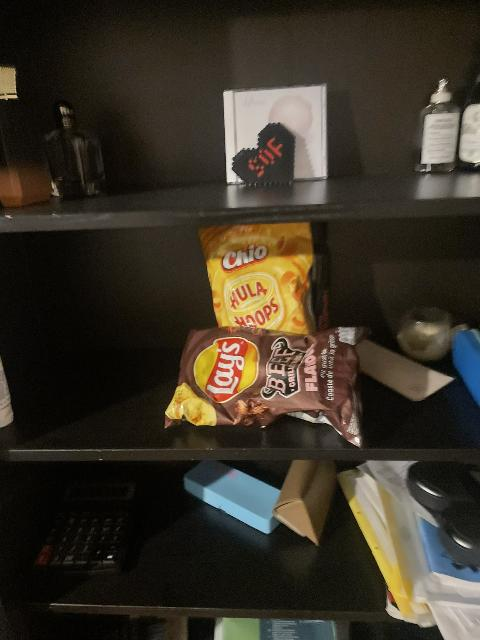Chio Hula Hoops Cheese 70g: (198, 224, 320, 334)
Lays Beef Grilled Ribs 125g: (166, 327, 365, 440)
